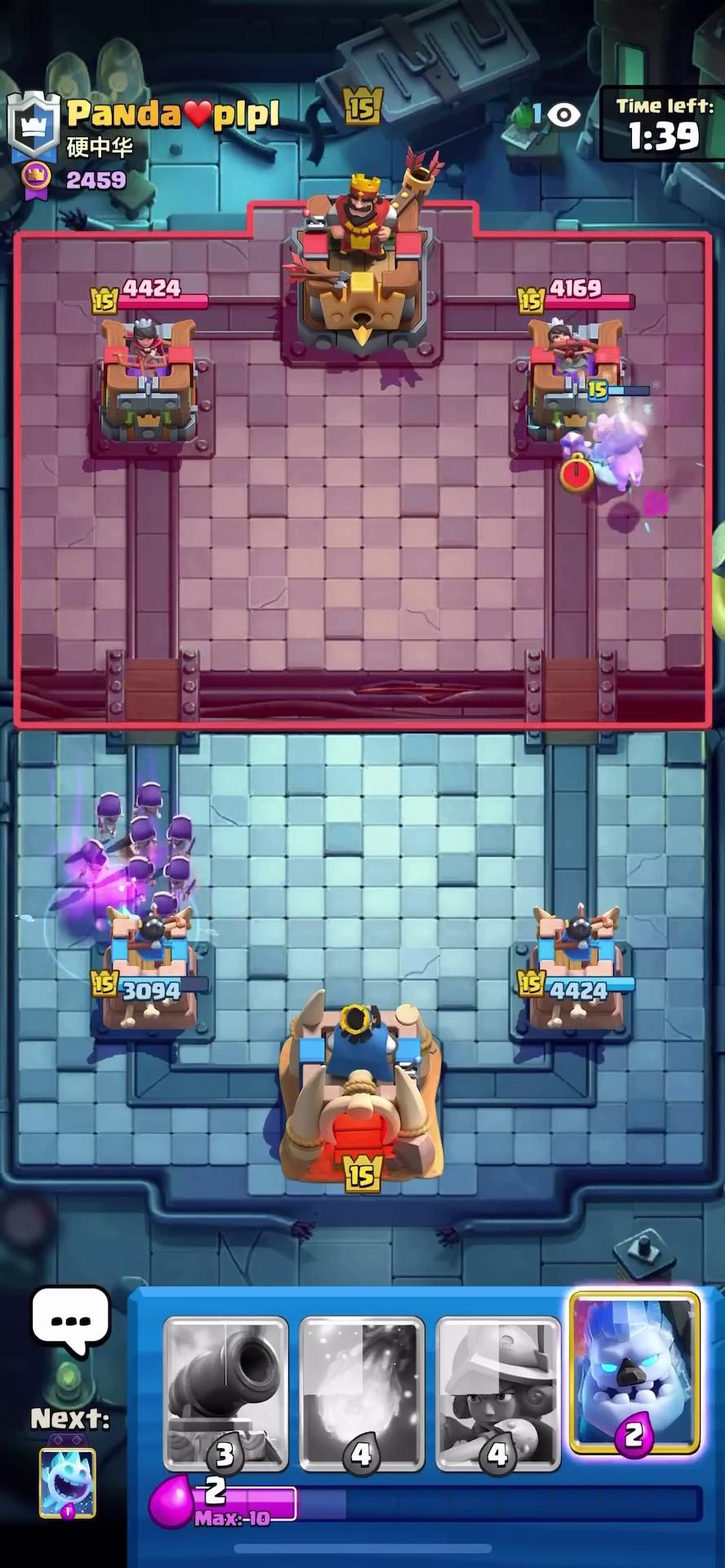evo_skeletons: (71, 762, 212, 925)
hog_rider: (565, 386, 663, 496)
